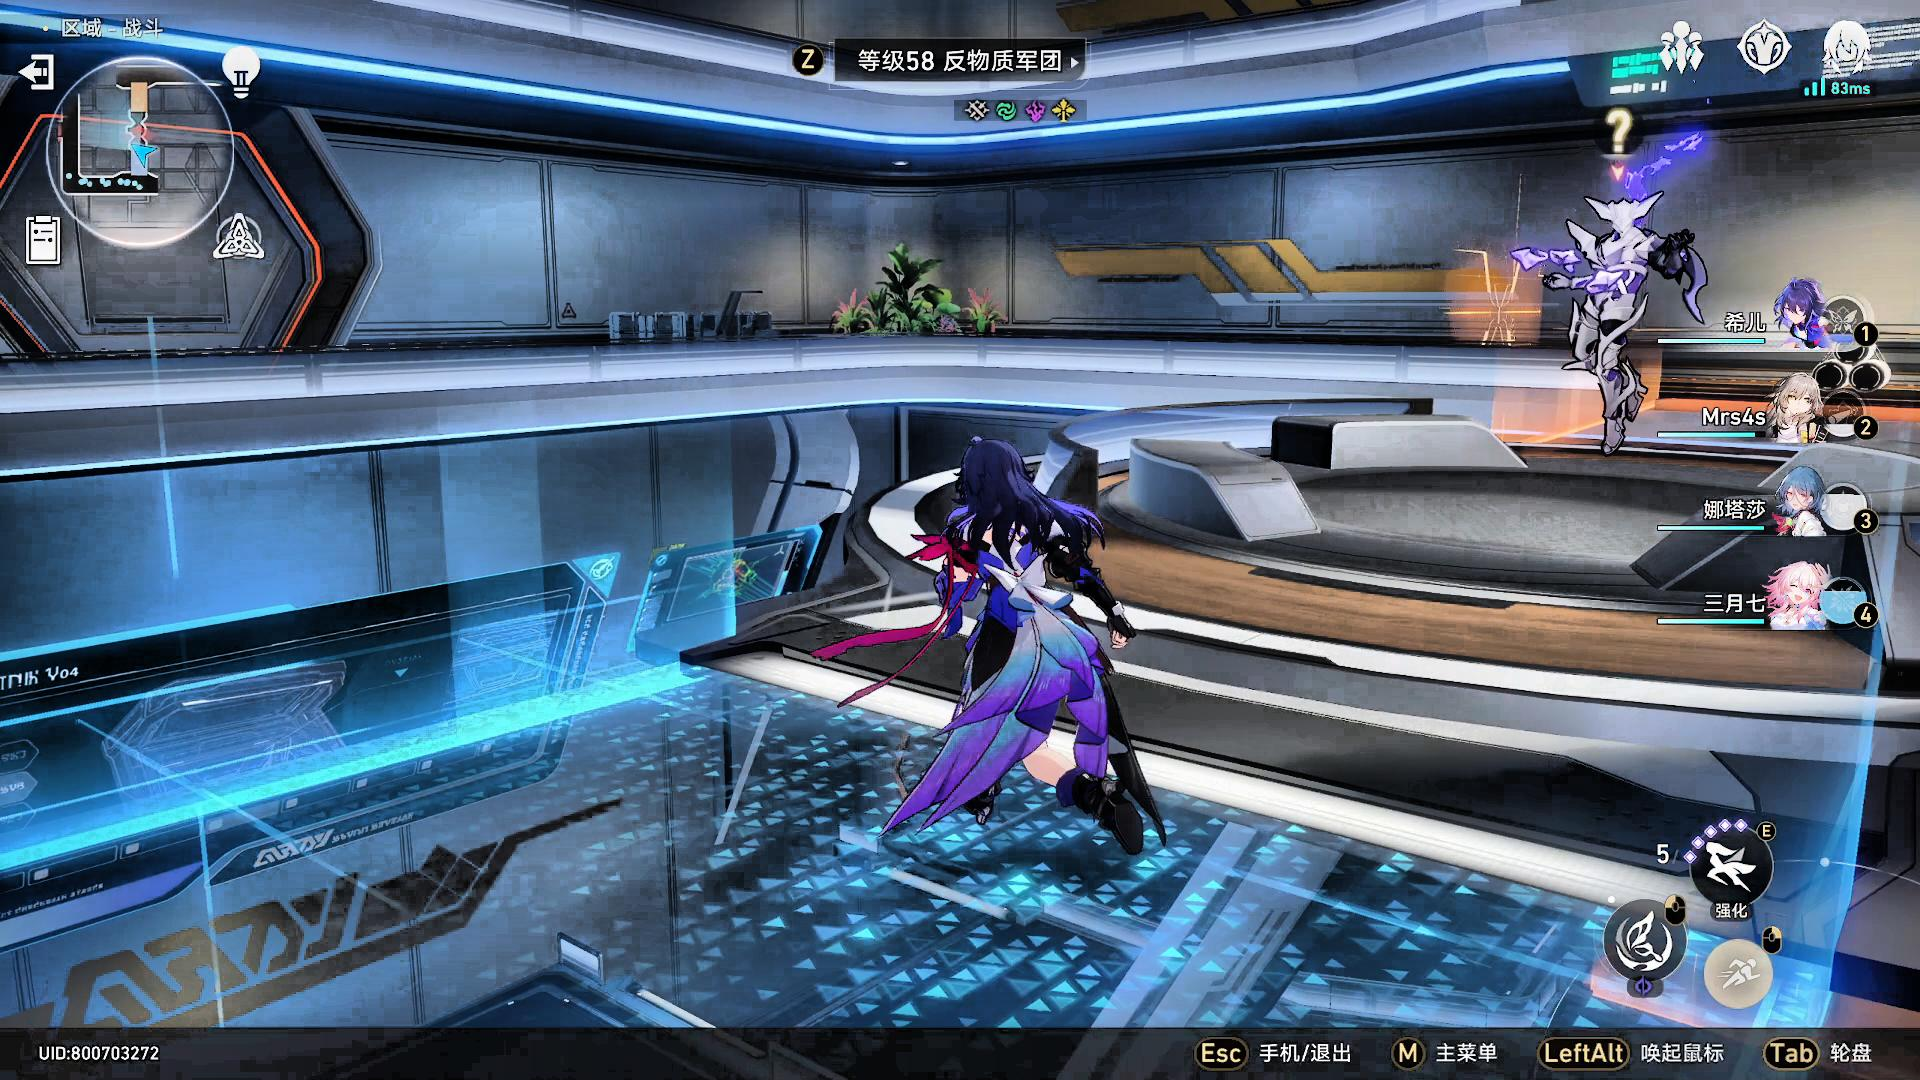Enemy: (1513, 191, 1710, 459)
Self: (816, 444, 1168, 858)
